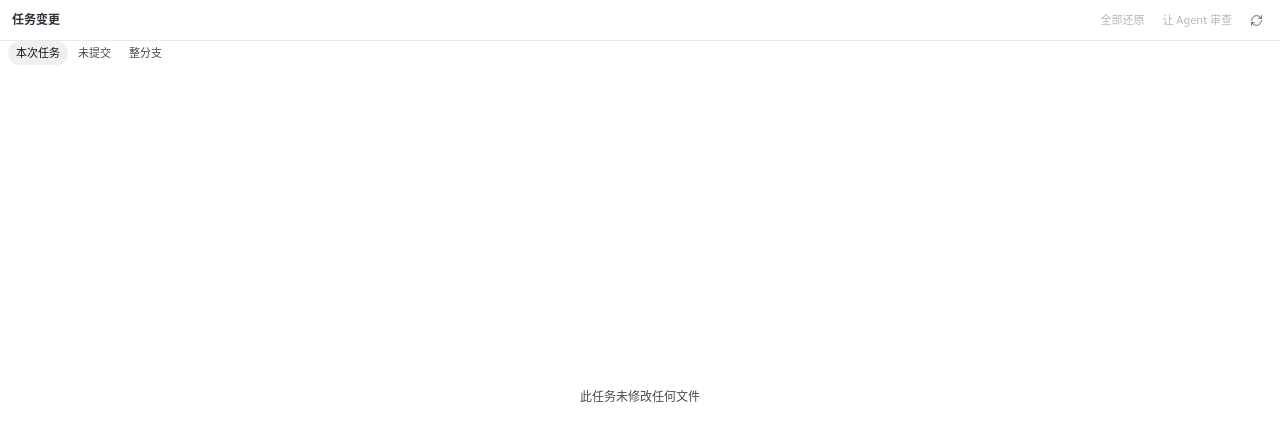
Test: DiffPanel — 比较范围切换 › 非 git 仓库时展示原因，而不是静默显示「没有变更」
Click the tab "未提交": (94,53) [70,41,119,65]
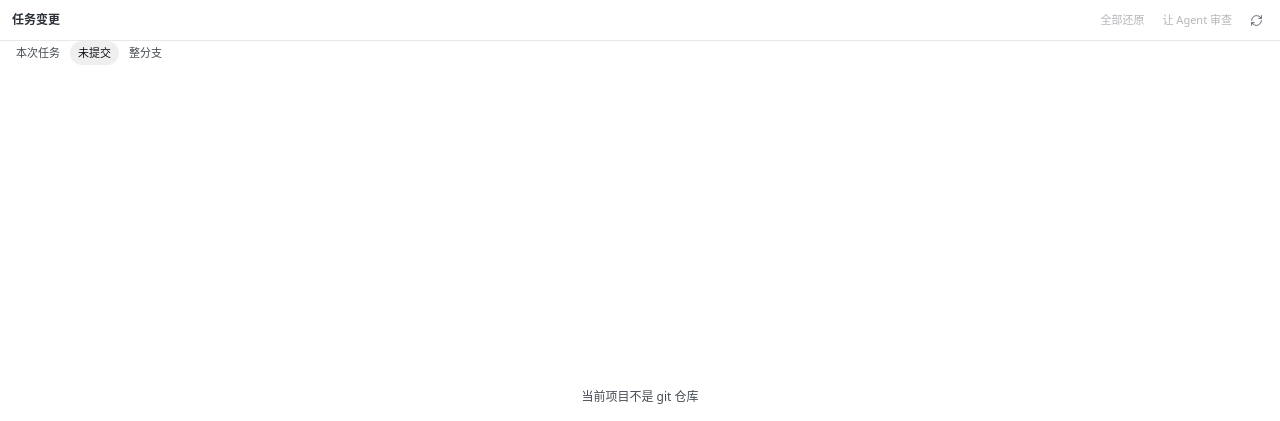
Result: the text "当前项目不是 git 仓库" is shown at [582,388,699,404]
